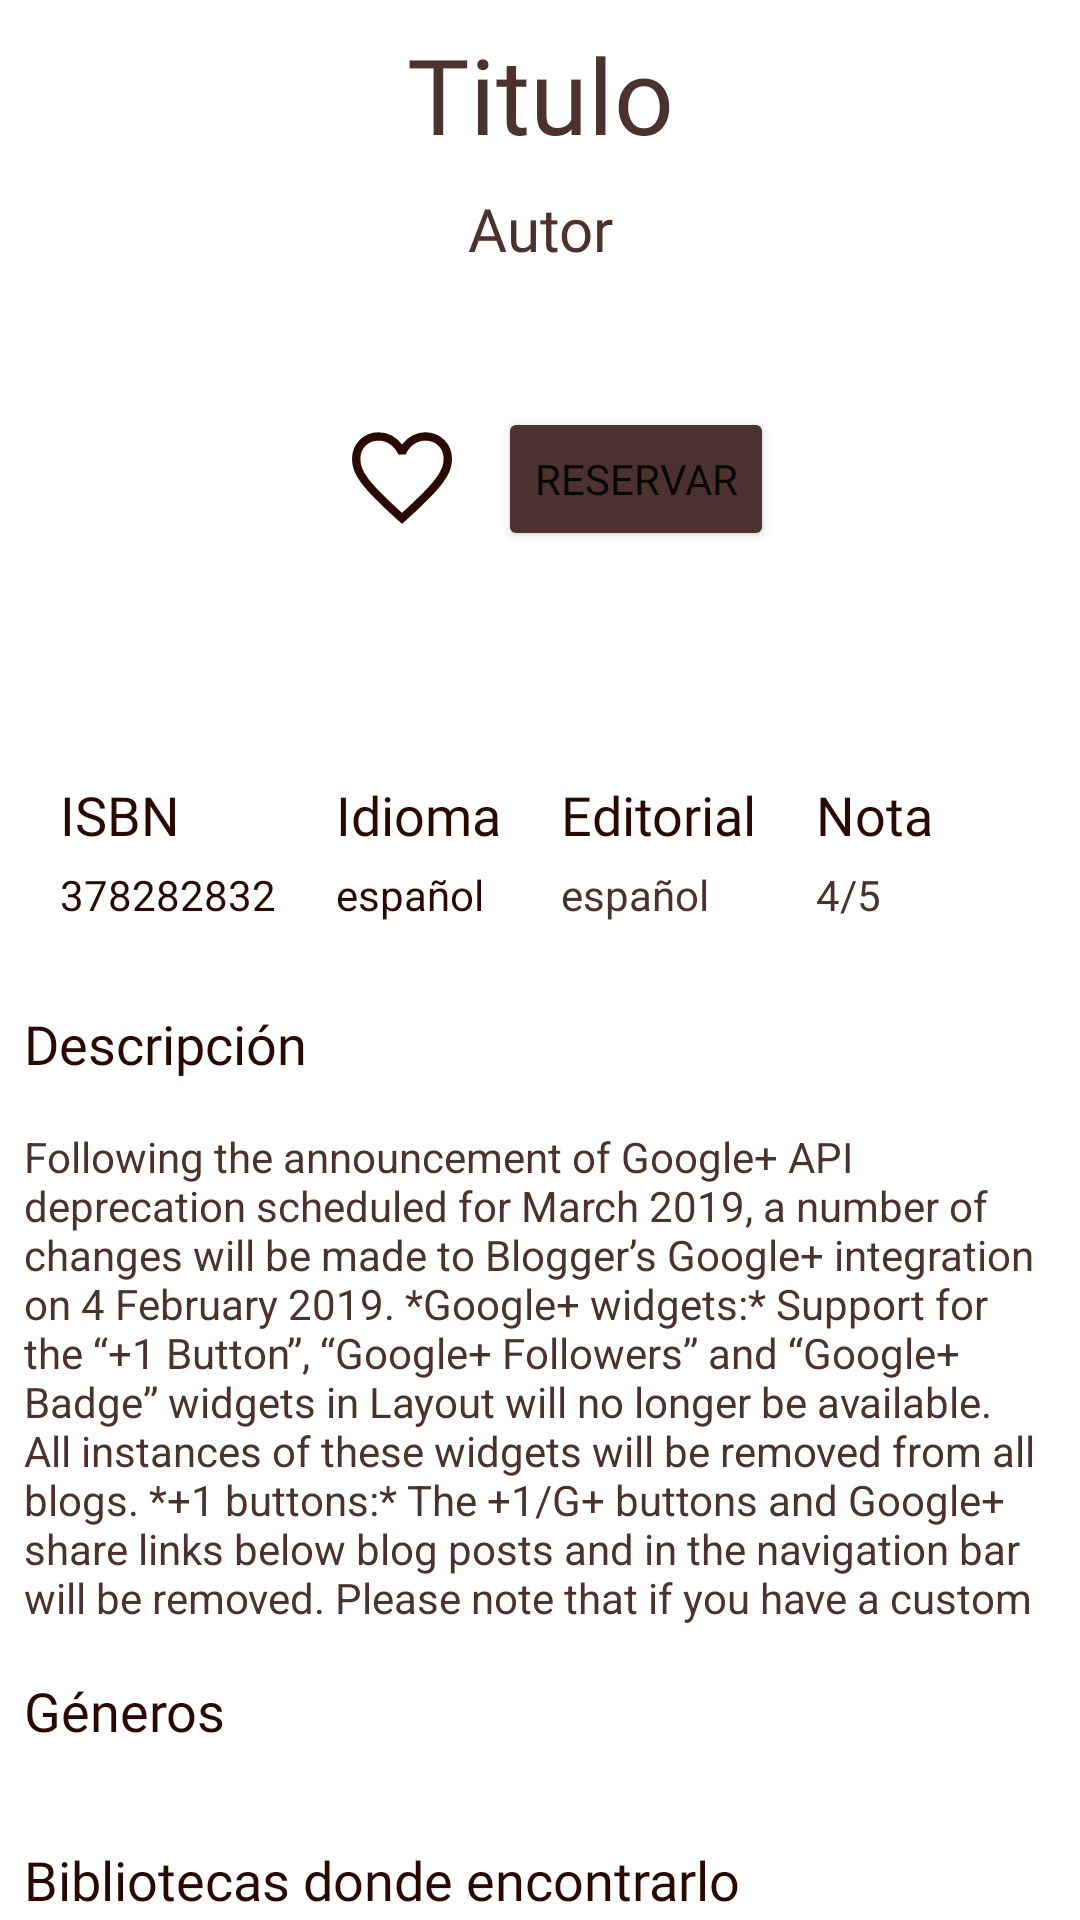

Icons on this 1080*1920 Android screen, each with its box as (x1, y1, x2, y2):
favorito: (352, 432, 452, 524)
